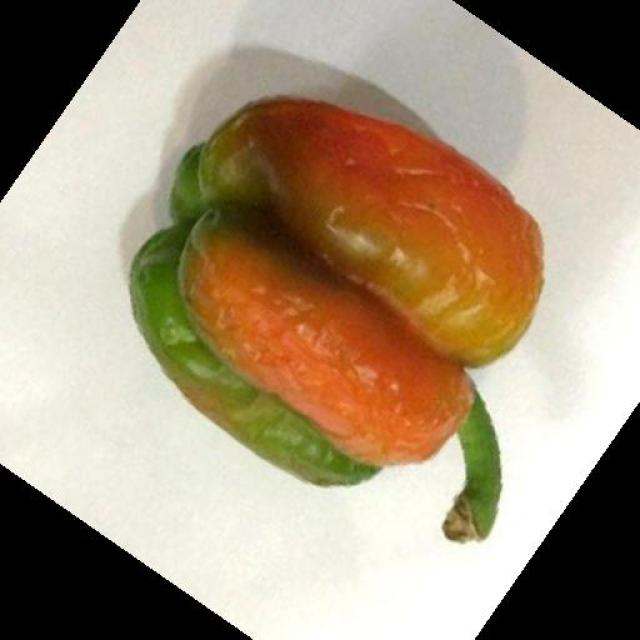Stale_Capsicum: (122, 85, 555, 542)
